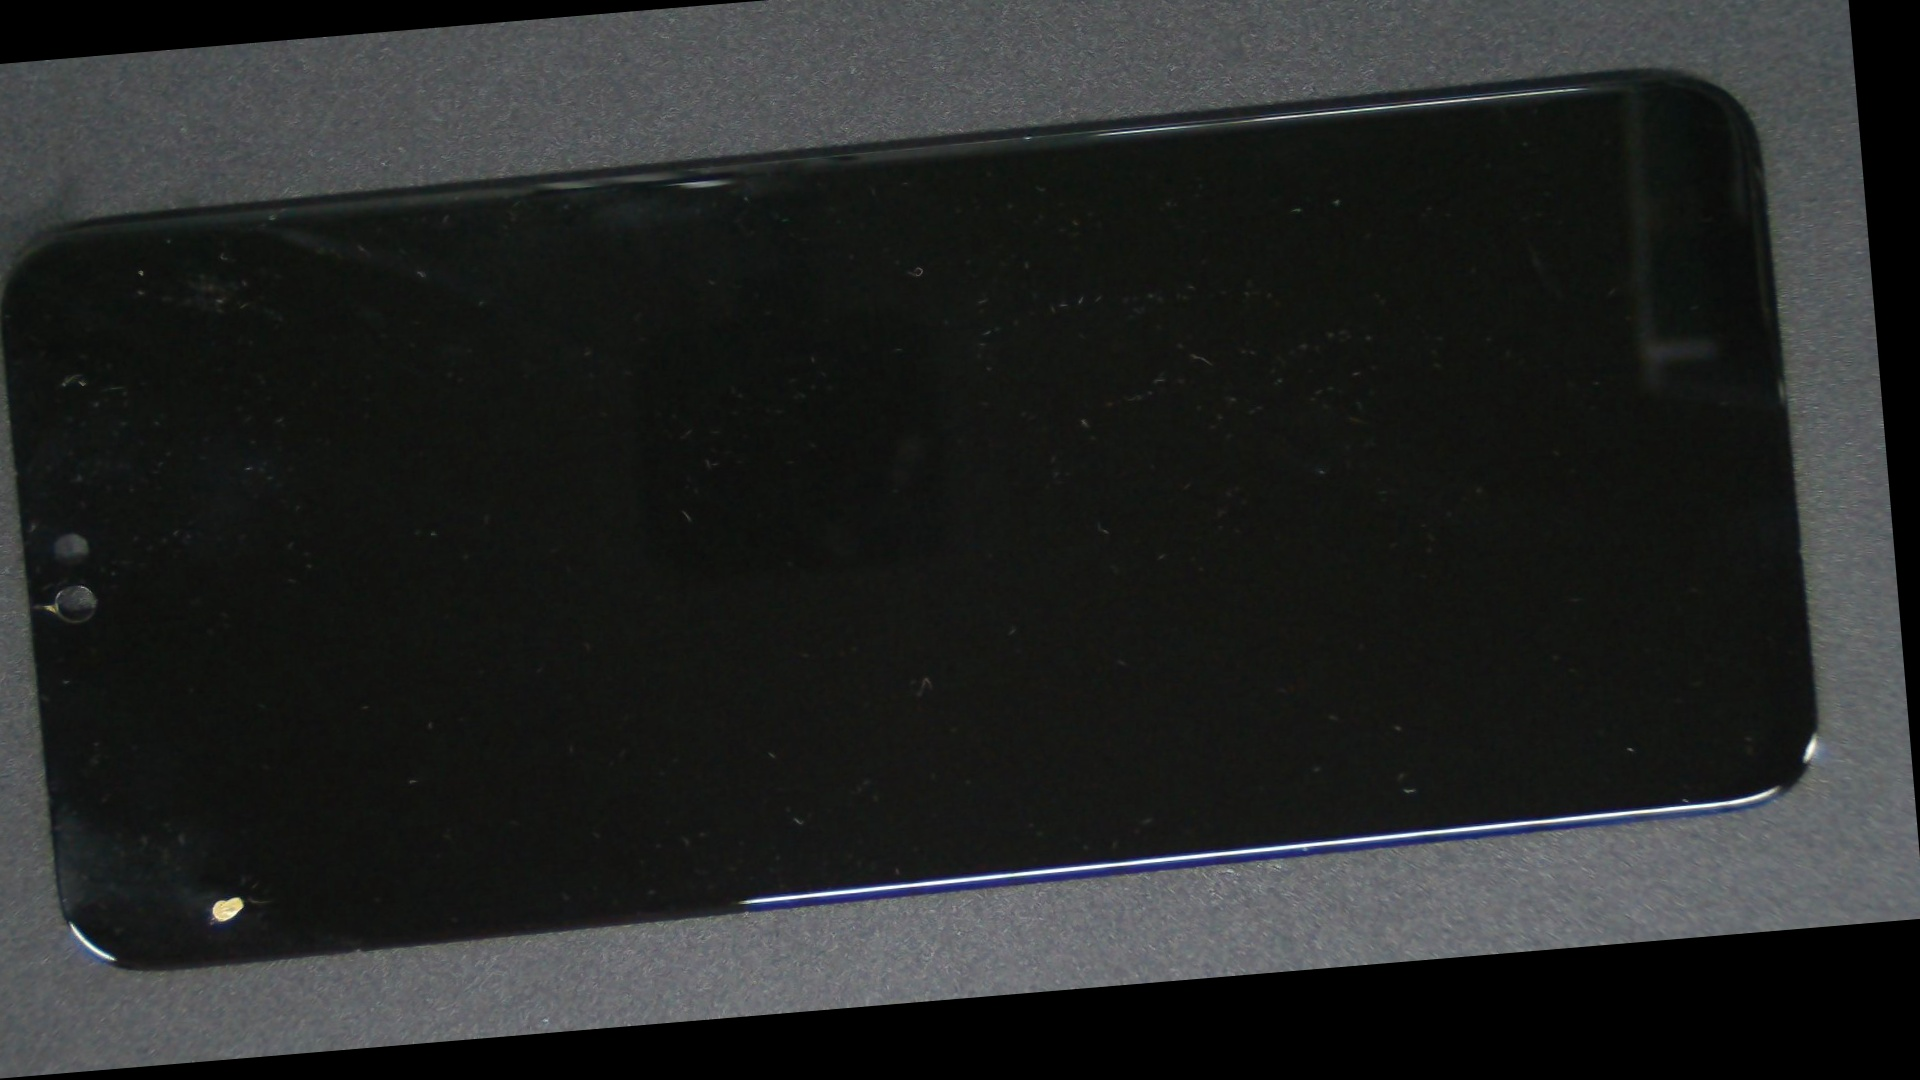oil: (46, 460, 394, 1071)
